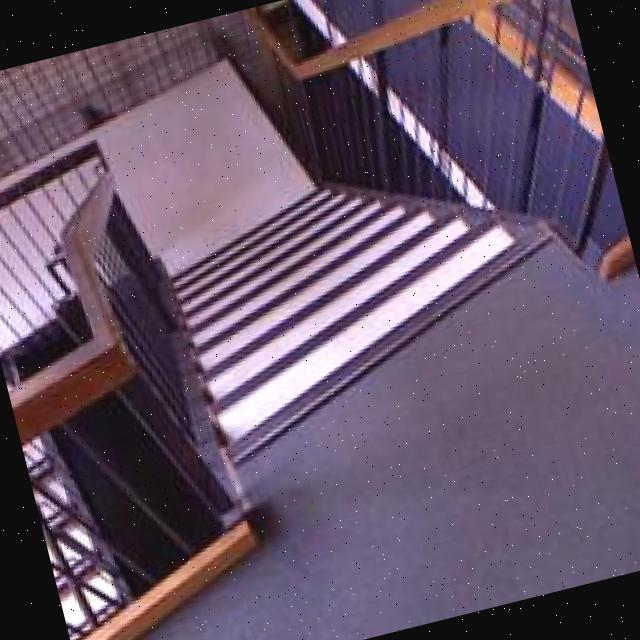stairs: (146, 129, 583, 471)
